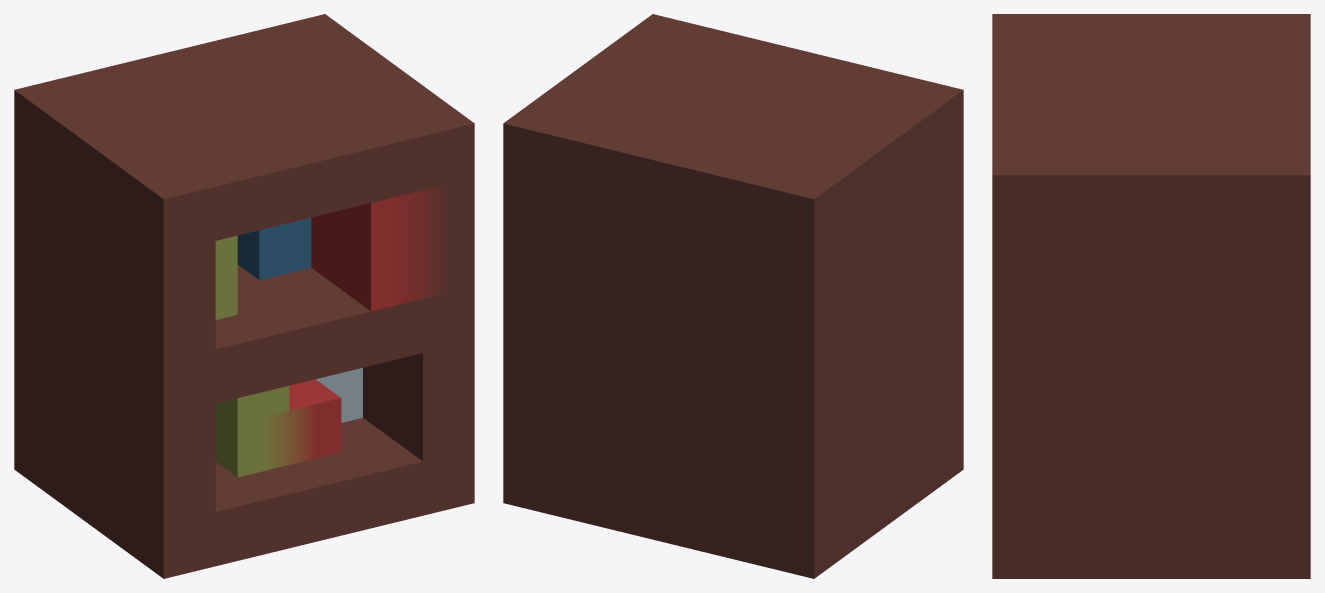
The model's file is book_shelf.fbx.
The picture shows the model from 3 angles, left to right: view 1: azimuth 30°, elevation 25°; view 2: azimuth 150°, elevation 25°; view 3: azimuth 270°, elevation 25°; orthographic projection. The views are drawn at different scales.
Parts seen in each view (by area): view 1: book_shelf; view 2: book_shelf; view 3: book_shelf.
Part boxes in pixels (x1,y1,x2,y2): book_shelf: [14, 14, 474, 578]; book_shelf: [503, 14, 963, 578]; book_shelf: [992, 14, 1310, 578].
Bounding box in the file's own units: 6 × 7 × 5.
